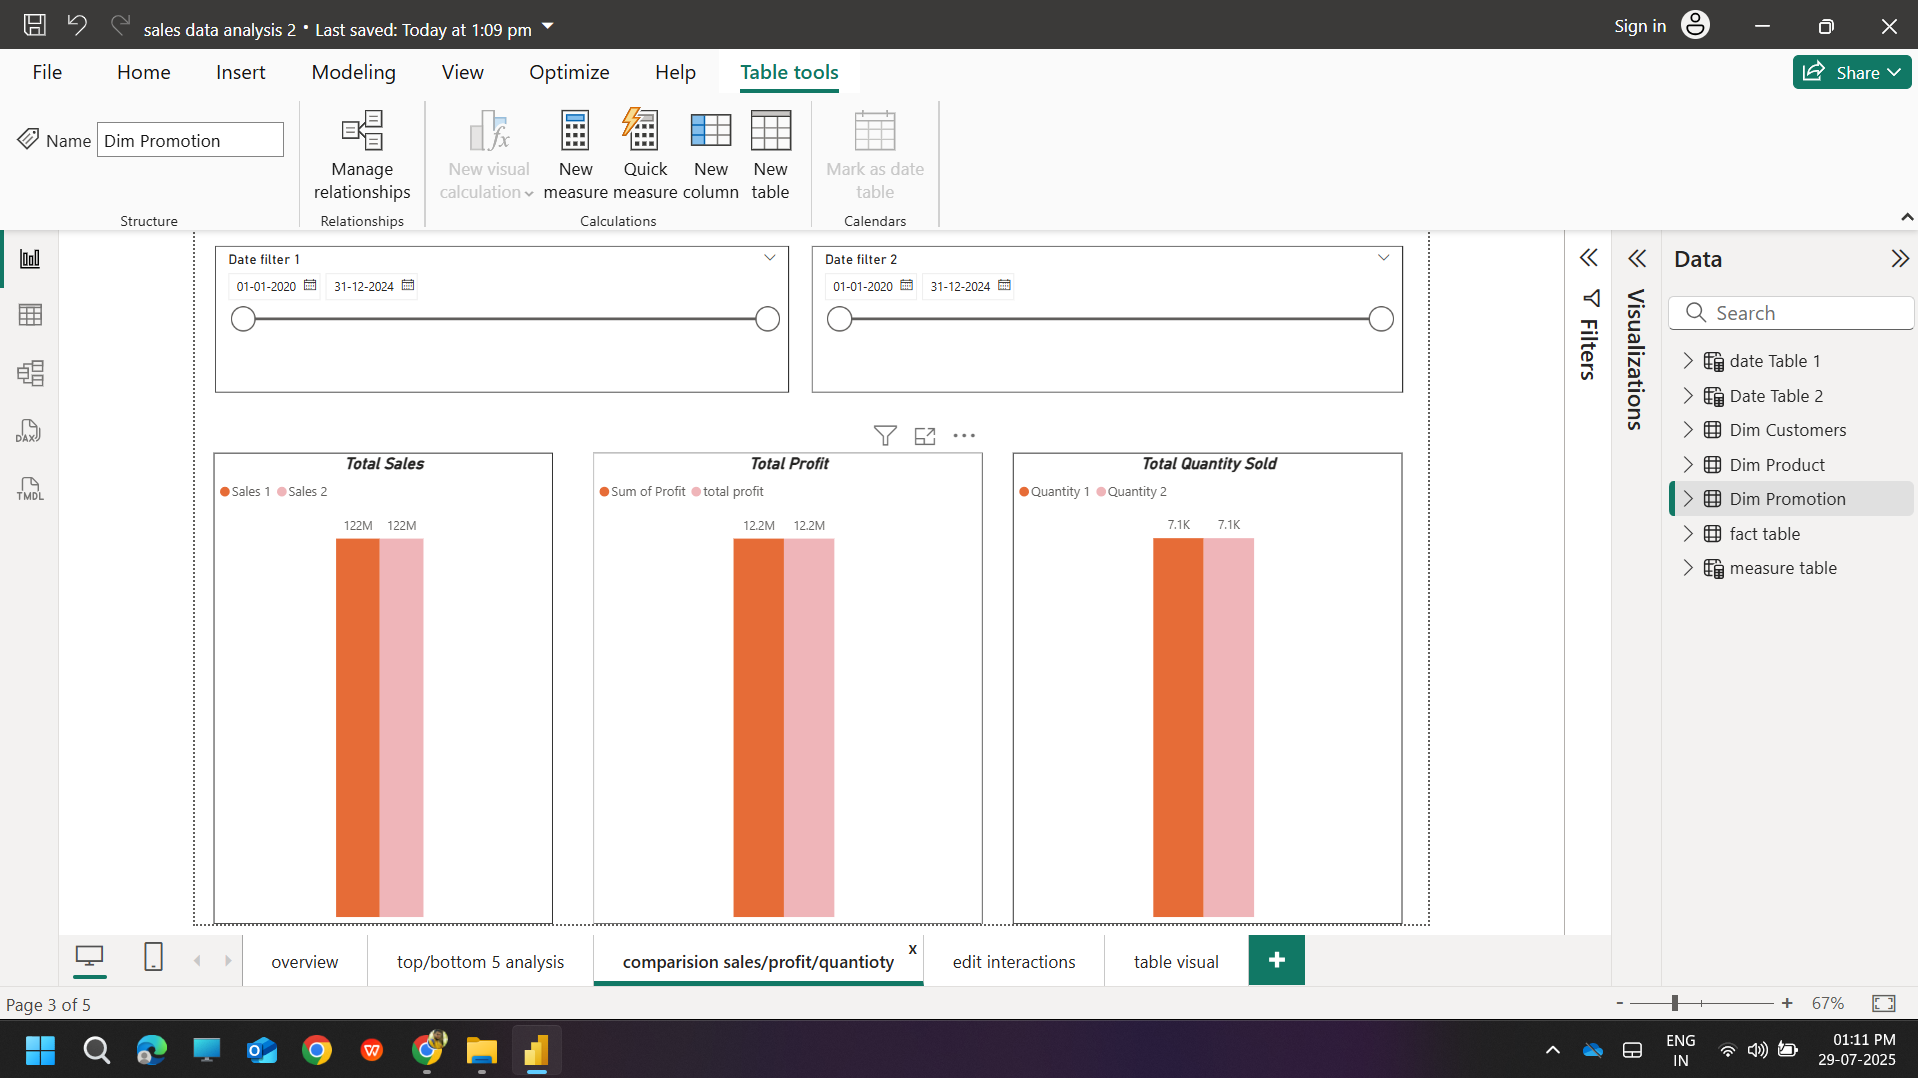

What the dashboard file says about the page in this screenshot:
{"tool":"powerbi","page":{"name":"comparision sales/profit/quantioty","canvas":[1280,720],"ordinal":2},"visuals":[{"type":"slicer","fields":{"Values":["date Table 1.Date"]},"box":[20.9,16.4,595.3,152.2],"z":0},{"type":"slicer","fields":{"Values":["Date Table 2.Date"]},"box":[640.1,16.4,613.2,152.2],"z":1000},{"type":"clusteredColumnChart","title":"Total Sales","fields":{"Y":["fact table.Net Sales","date Table 1.sum of net sales"]},"box":[19.4,231.3,352.1,489.4],"z":2000},{"type":"clusteredColumnChart","title":"Total Profit","fields":{"Y":["fact table.Profit","measure table.total profit"]},"box":[413.3,231.3,404.3,489.4],"z":3000},{"type":"clusteredColumnChart","title":"Total Quantity Sold","fields":{"Y":["fact table.Units Sold","measure table.quality sold"]},"box":[849,231.3,404.3,489.4],"z":4000}]}

Visuals, with their boxes on the page's 1280x720 design canvas (x1, y1, x2, y2). These are canvas units, not pixel positions in the 1918x1078 screenshot, which may show the page scaled, cropped or inside an application window:
slicer - date Table 1.Date: detection(21, 16, 616, 169)
slicer - Date Table 2.Date: detection(640, 16, 1253, 169)
"Total Sales" clusteredColumnChart: detection(19, 231, 372, 721)
"Total Profit" clusteredColumnChart: detection(413, 231, 818, 721)
"Total Quantity Sold" clusteredColumnChart: detection(849, 231, 1253, 721)
